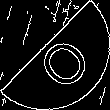O_NW: (21, 22, 89, 88)
